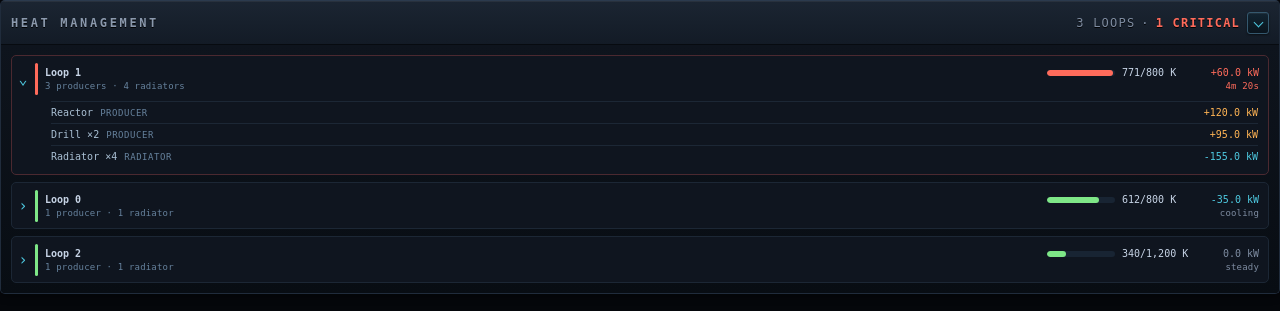
Test: HeatPanel › keeps only one System Heat loop expanded at a time
The image size is (1280, 311).
Expected: the button with aria-label "Collapse Loop 1" is shown, left=12, top=56, right=1268, bottom=101
Step 1. Click the button with aria-label "Expand Loop 0" → (63, 200), box left=12, top=183, right=1268, bottom=228
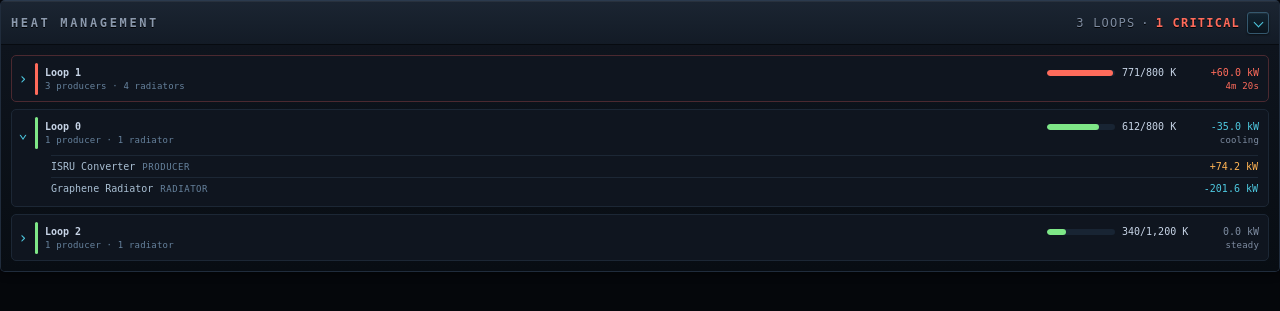
Expected: the button with aria-label "Expand Loop 1" is shown, left=12, top=56, right=1268, bottom=101
Expected: the button with aria-label "Collapse Loop 0" is shown, left=12, top=110, right=1268, bottom=155
Expected: the text "ISRU Converter" is shown, left=51, top=161, right=135, bottom=172
Step 2. Click the button with aria-label "Expand Loop 2" → (63, 232), box left=12, top=215, right=1268, bottom=260
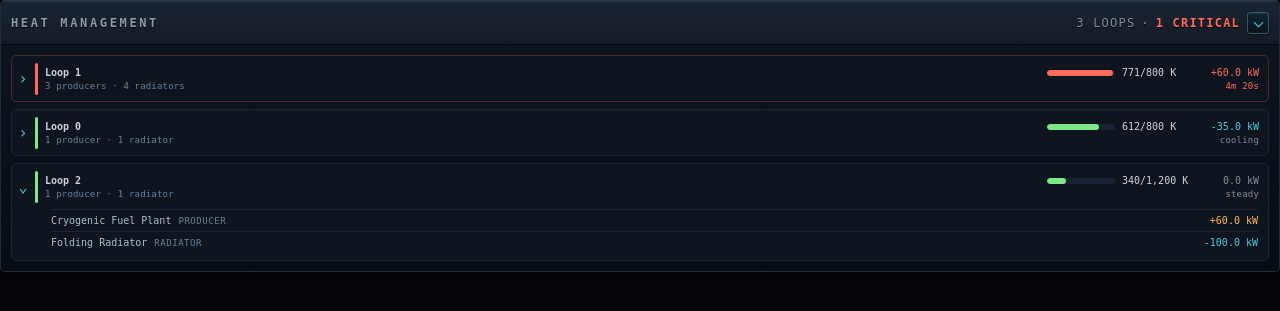
Expected: the button with aria-label "Expand Loop 0" is shown, left=12, top=110, right=1268, bottom=155
Expected: the button with aria-label "Collapse Loop 2" is shown, left=12, top=164, right=1268, bottom=209
Expected: the text "Cryogenic Fuel Plant" is shown, left=51, top=215, right=171, bottom=226
